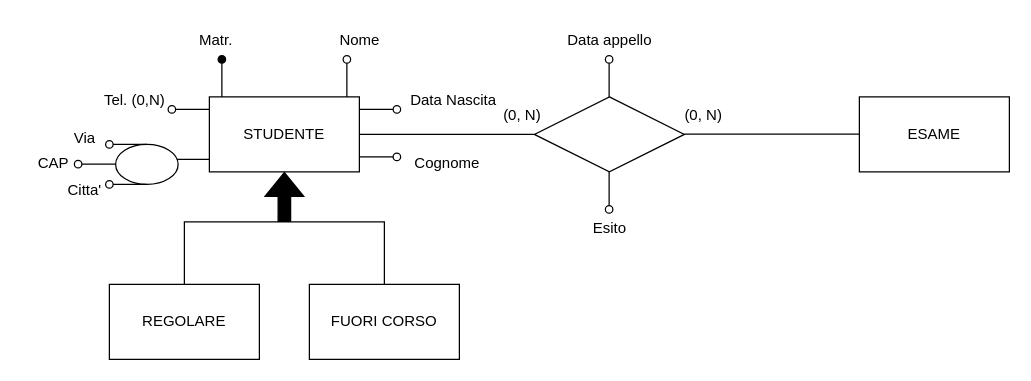
This 1031x381 diagram has some shape labels left out. The shapes that lost their labels are listed below. From the top down, each one's centre as x and y in pixels, then its label:
At (608,134): "SOSTENUTO".
At (146,163): "Indirizzo".
